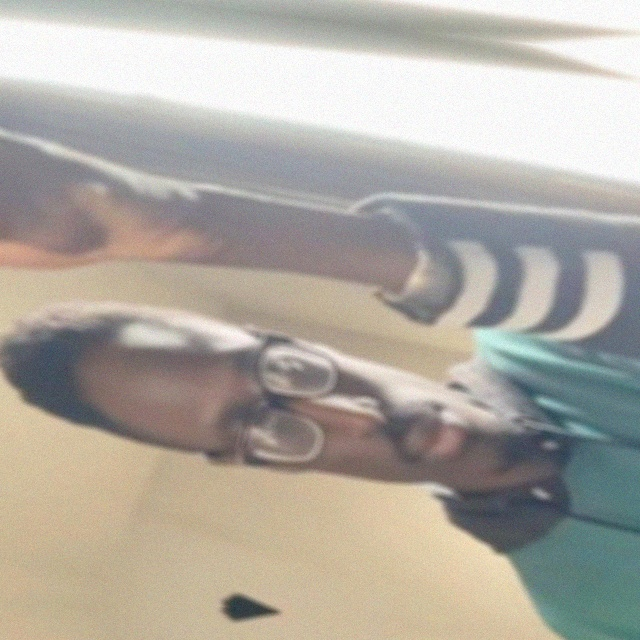Rock: (0, 107, 251, 317)
